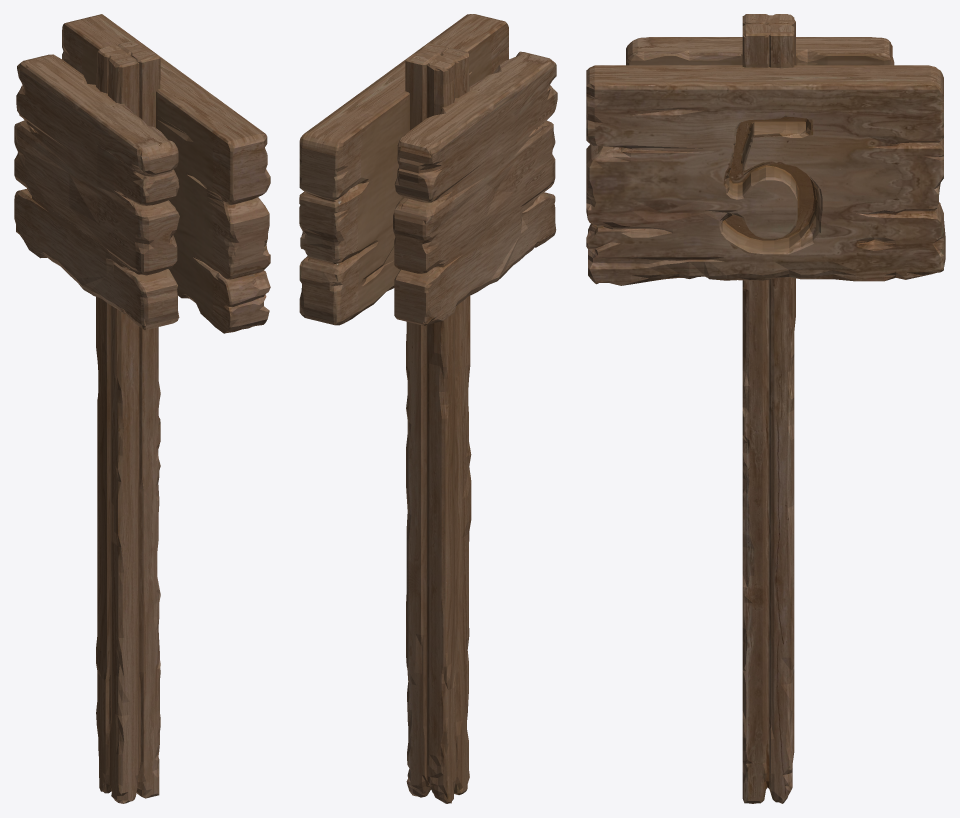
File: Letrero 5.glb
The picture shows the model from 3 angles, left to right: view 1: azimuth 30°, elevation 25°; view 2: azimuth 150°, elevation 25°; view 3: azimuth 270°, elevation 25°; orthographic projection. The views are drawn at different scales.
Parts seen in each view (by area): view 1: tripo_node_8a3c61fd-893d-47ce-b40b-29c574a55f94; view 2: tripo_node_8a3c61fd-893d-47ce-b40b-29c574a55f94; view 3: tripo_node_8a3c61fd-893d-47ce-b40b-29c574a55f94.
Part boxes in pixels (<box>): tripo_node_8a3c61fd-893d-47ce-b40b-29c574a55f94: <box>14,14,270,803</box>; tripo_node_8a3c61fd-893d-47ce-b40b-29c574a55f94: <box>299,14,557,803</box>; tripo_node_8a3c61fd-893d-47ce-b40b-29c574a55f94: <box>586,14,945,803</box>.
Size of the model in its own units: 0.1546 by 1 by 0.4227.
Materials: 1 (1 with a texture image).
